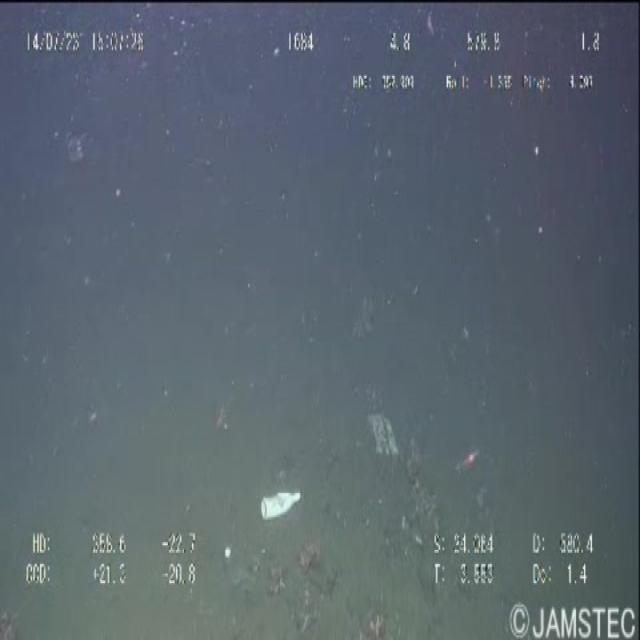Glass: (254, 465, 313, 532)
Litter: (356, 397, 411, 476)
